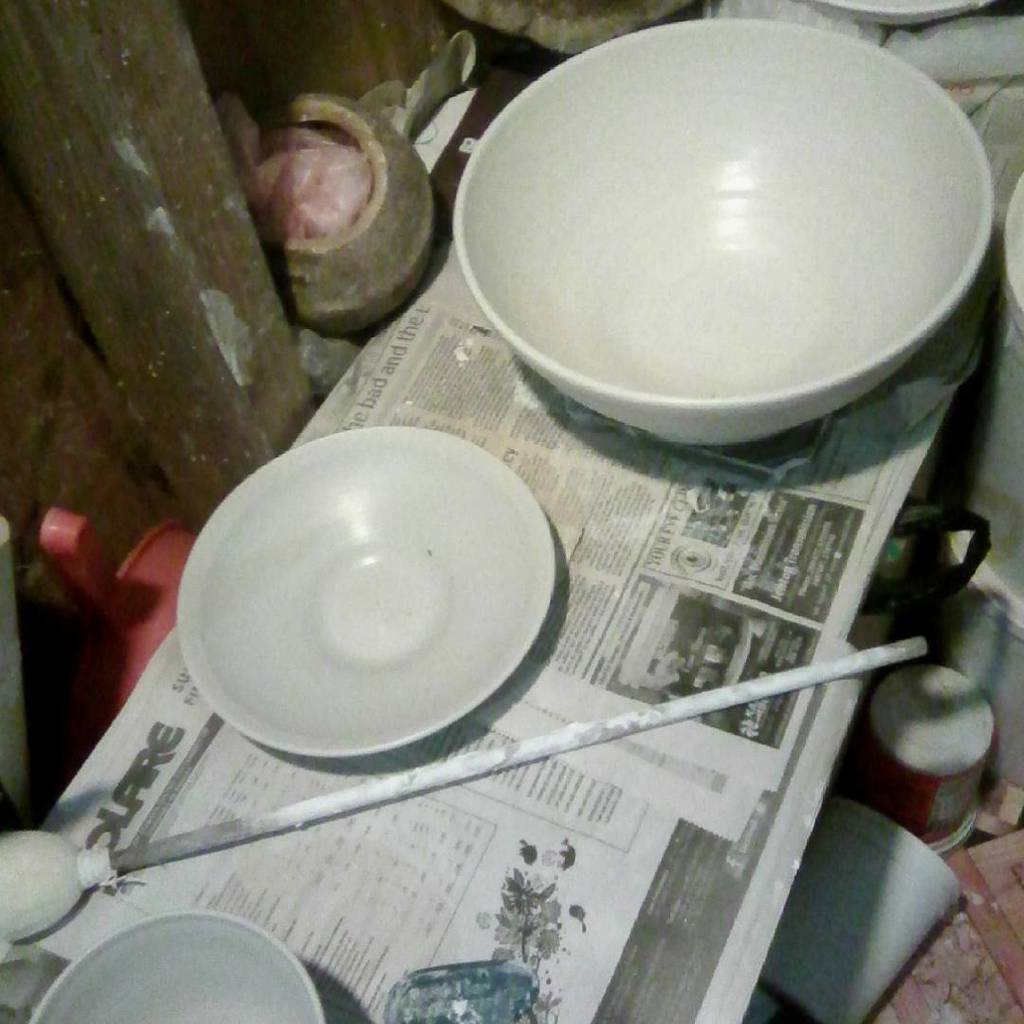plate: (152, 410, 577, 752)
